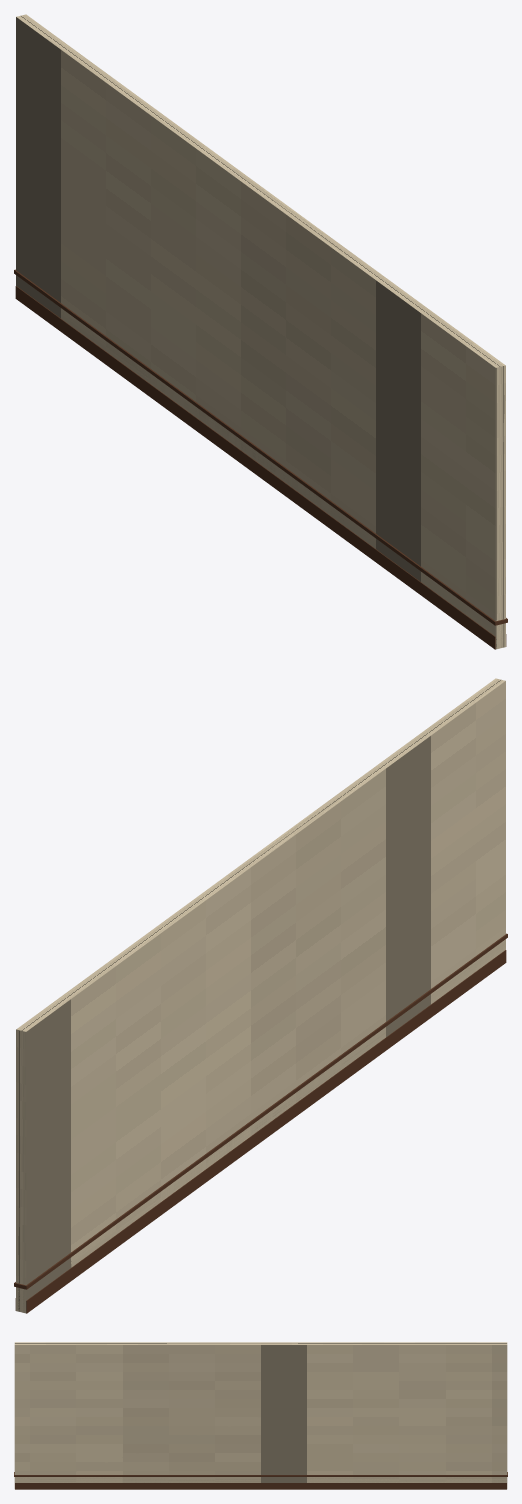
Rendered from wall_b.glb.
3 renders of one model, top to bottom at view 1: azimuth 30°, elevation 25°; view 2: azimuth 150°, elevation 25°; view 3: azimuth 270°, elevation 25°, orthographic. The views are drawn at different scales.
Parts seen in each view (by area): view 1: Box1, Box2, Box3, Box4; view 2: Box1, Box2, Box3, Box4; view 3: Box1, Box2, Box3, Box4.
Part boxes in pixels (box(x1,y1,x2,y2)): Box1: box(16, 14, 505, 649); Box2: box(15, 286, 506, 649); Box3: box(16, 275, 505, 648); Box4: box(14, 269, 507, 625); Box1: box(16, 678, 505, 1313); Box2: box(15, 950, 506, 1313); Box3: box(16, 939, 505, 1313); Box4: box(14, 933, 507, 1289); Box1: box(14, 1342, 507, 1488); Box2: box(15, 1483, 506, 1489); Box3: box(14, 1477, 507, 1487); Box4: box(14, 1472, 507, 1476).
Bounding box in the file's own units: 0.19 × 4 × 12.39.
Materials: 2 (1 with a texture image).
